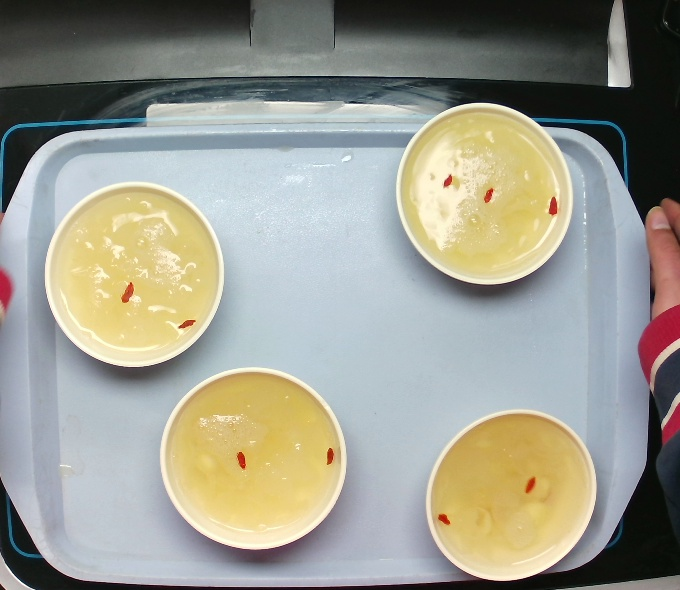wcq-YinErLianZiGeng: (155, 359, 355, 559), (34, 176, 231, 377), (388, 95, 584, 297), (420, 406, 610, 590)
